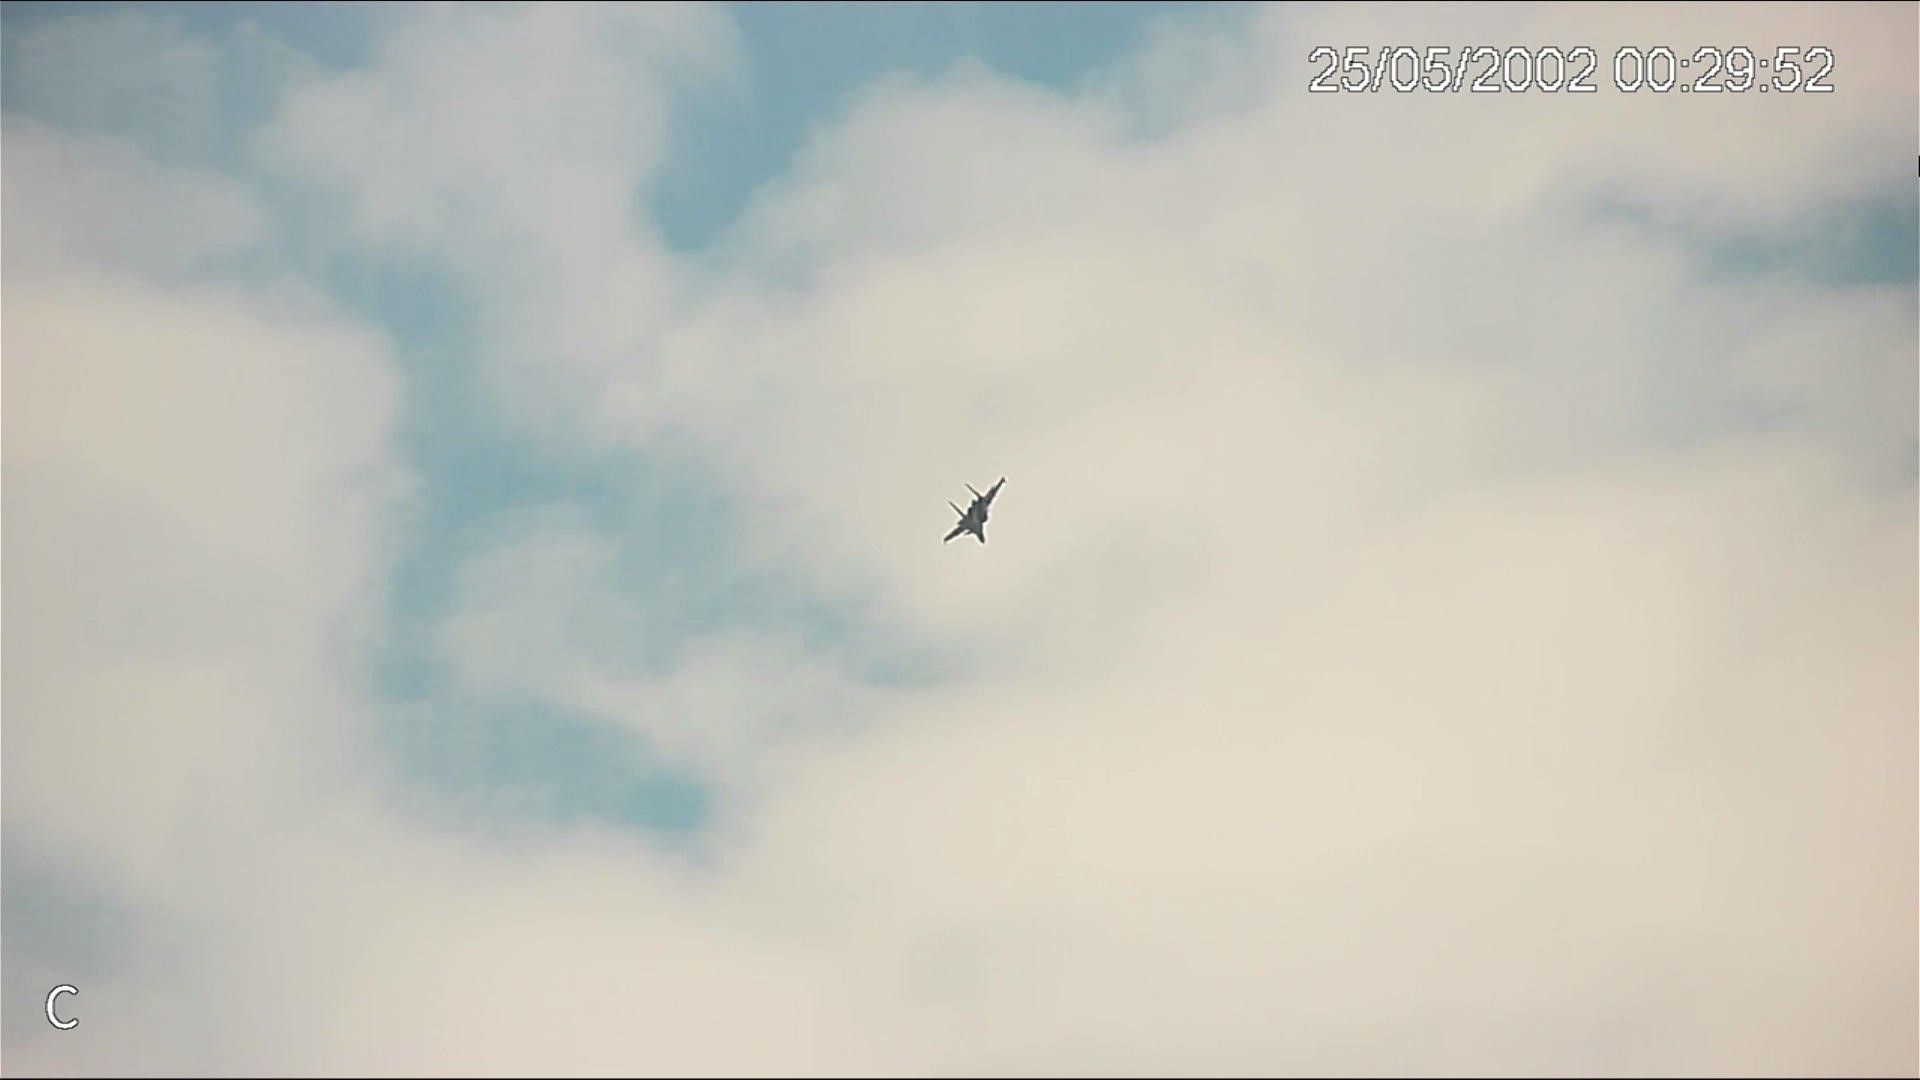SU_30: (934, 477, 1007, 554)
